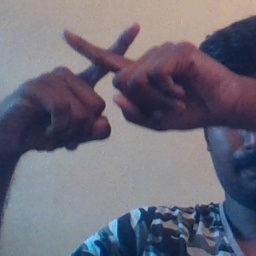X: (42, 10, 166, 134)
